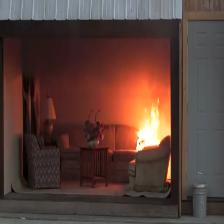fire: (134, 106, 160, 149)
